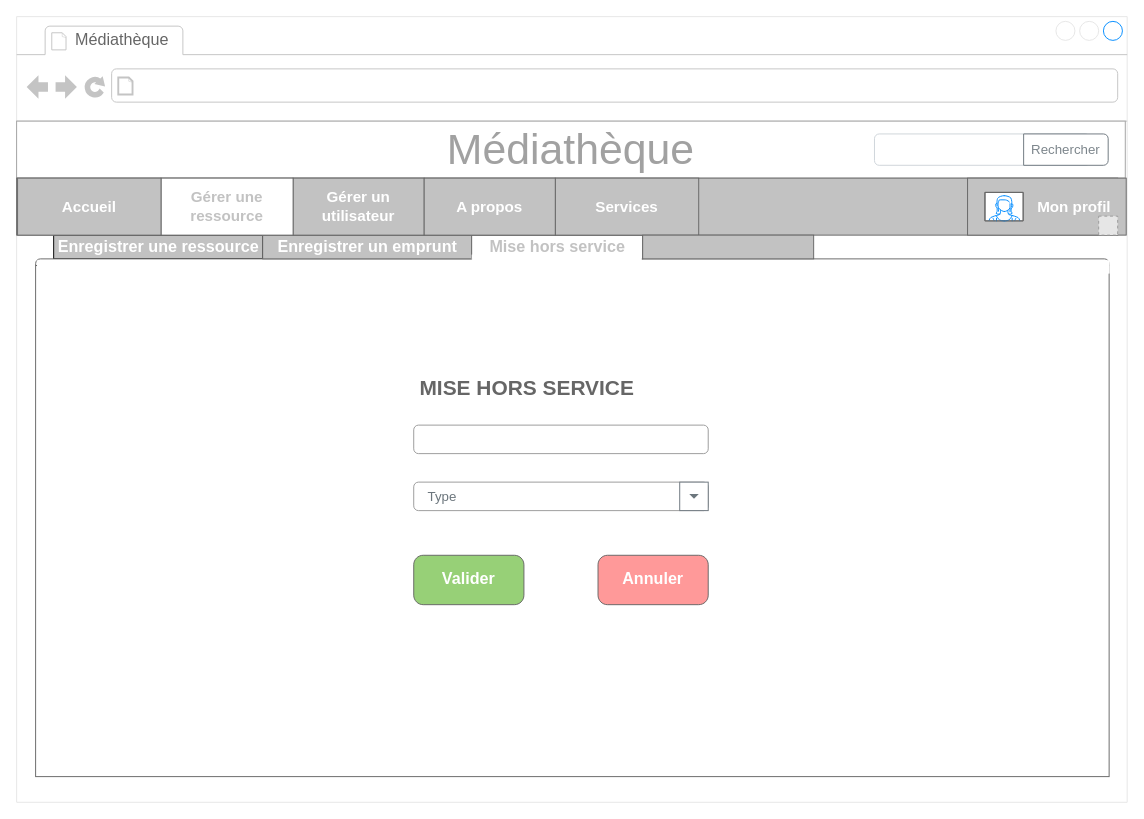
The diagram is 1144 pixels wide and 819 high, and some of its shapes have lost their labels. Grey dashed boxes stand in for pictures. The shapes that lost their labels are listed below. From the top down, each one's centre as x and y in pixels, then its label:
At point (258, 85): "https://www.mediatheque.fr".
At point (728, 246): "Liste des ressources".
At point (560, 439): "Côte du document".
